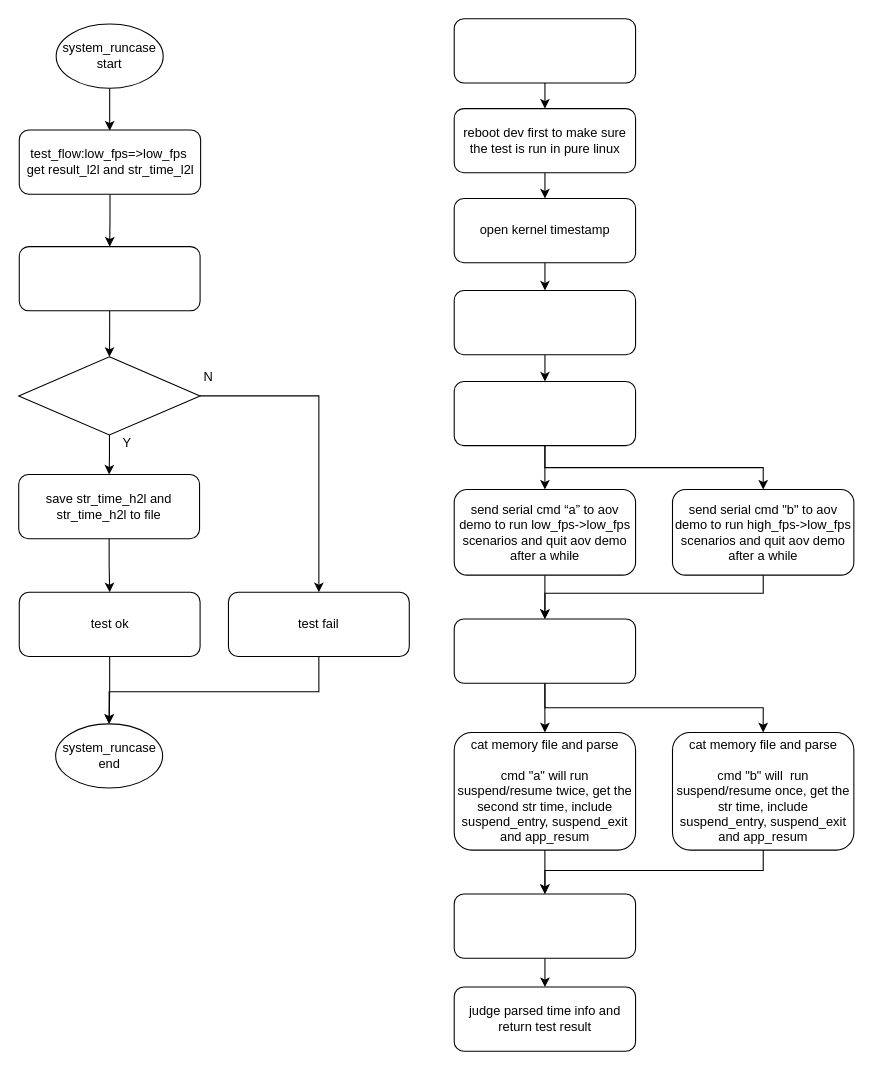
Some shapes in this 873 by 1070 pixel diagram are drawn without their labels. Here are the shapes that lost their labels. From the top down, the centre of each, then its label:
At [544,50]: "test_flow".
At [109,278]: "test_flow:high_fps=>low_fps get result_h2l and str_time_h2l".
At [544,322]: "redirect kmsg to memory file and abandon the kmsg before test case run".
At [109,395]: "if result_l2l ==0 and result_h2l == 0".
At [544,413]: "run aov demo in test mode".
At [544,650]: "redirect kmsg to memory file".
At [544,925]: "cat booting_time and parse get ipl_resume_time and kernel_resume_time".
